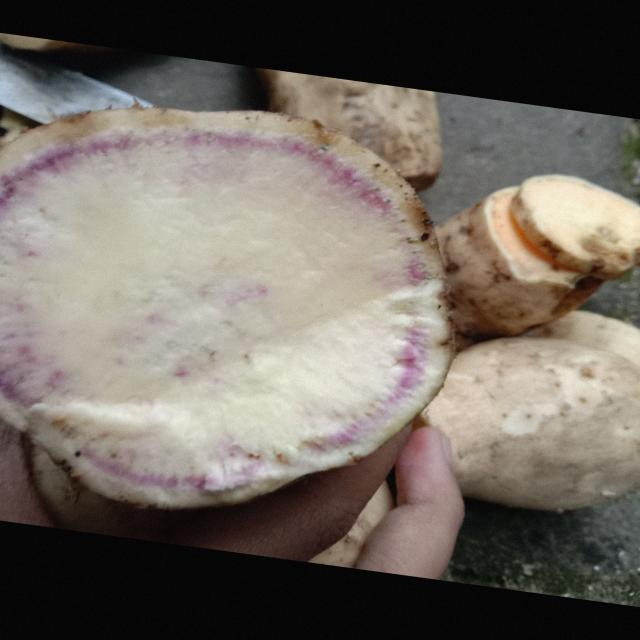Healthy Sweet Potato: (2, 109, 453, 509)
